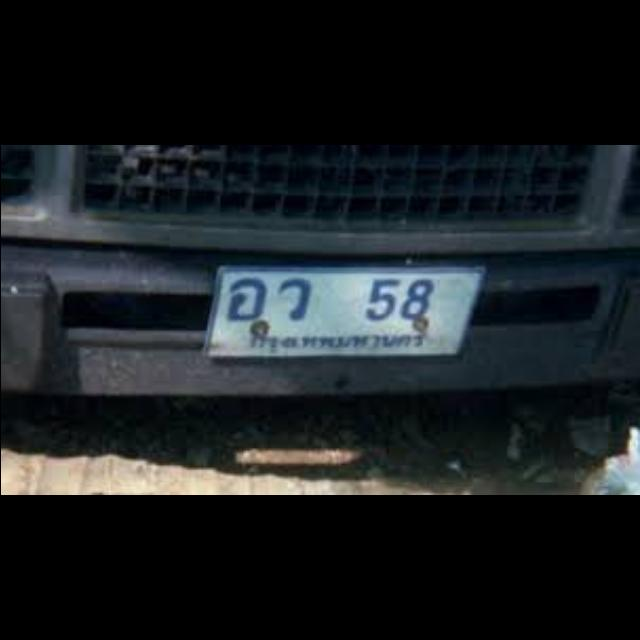licenseplate: (203, 266, 487, 358)
